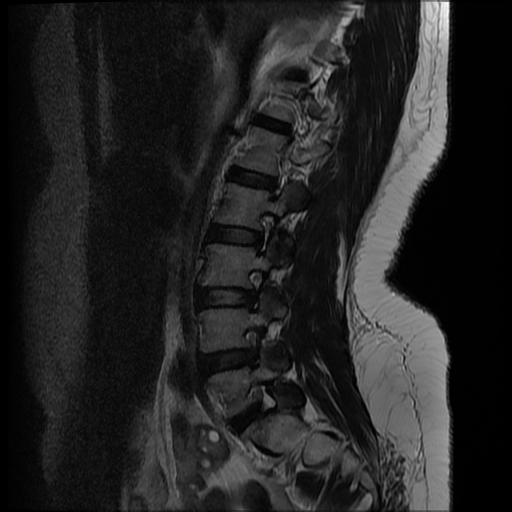RFS0: (239, 377, 285, 423), (247, 203, 279, 259)
RFS2: (242, 263, 274, 318)
RFS3: (236, 322, 274, 373)
